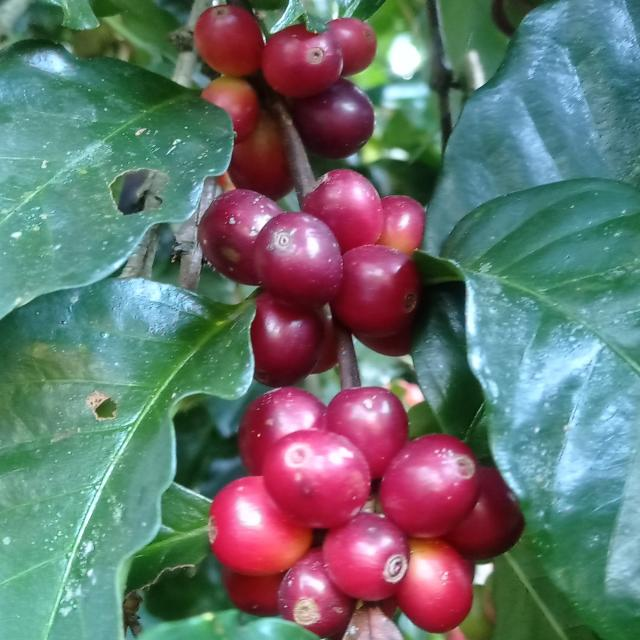red: (262, 430, 371, 529), (380, 435, 480, 539), (254, 212, 343, 308), (330, 245, 421, 337), (198, 189, 282, 285), (239, 387, 326, 476), (323, 514, 410, 602), (326, 387, 409, 479), (445, 467, 526, 561), (278, 549, 356, 638), (251, 293, 324, 388), (302, 169, 384, 253), (292, 77, 375, 158), (262, 24, 343, 97), (329, 17, 377, 76), (310, 304, 338, 374), (356, 325, 413, 357)
yellow: (208, 477, 312, 577), (396, 539, 474, 634), (228, 109, 293, 201), (194, 3, 264, 76), (201, 75, 259, 142), (222, 567, 287, 618), (378, 196, 425, 255)
